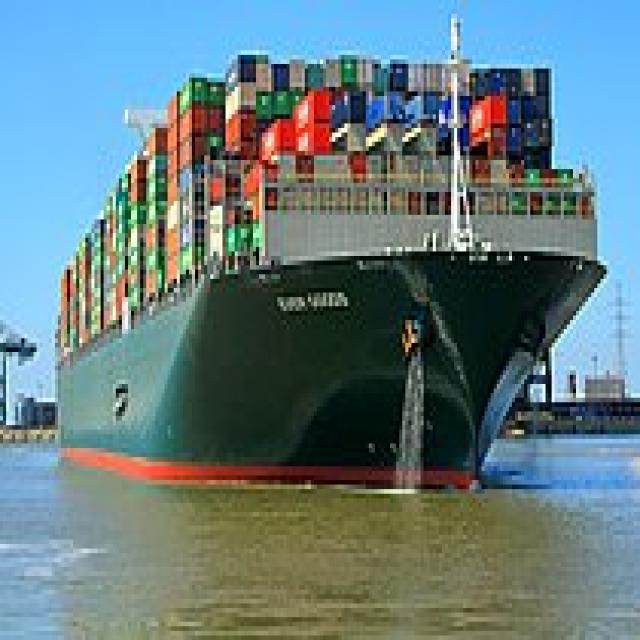Cargo: (46, 4, 606, 493)
